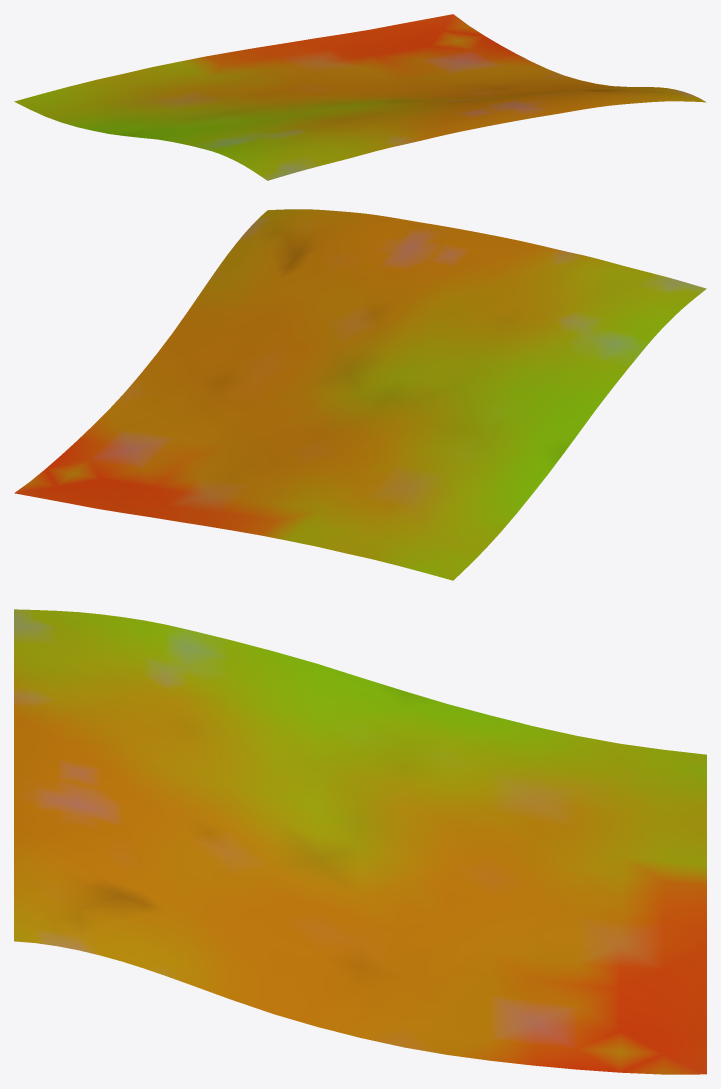
The model's file is SM_BM_BT_Terrain_1_6.glb.
The picture shows the model from 3 angles, top to bottom: view 1: azimuth 30°, elevation 25°; view 2: azimuth 150°, elevation 25°; view 3: azimuth 270°, elevation 25°; orthographic projection. The views are drawn at different scales.
Parts seen in each view (by area): view 1: SM_BM_BT_Terrain_1_6; view 2: SM_BM_BT_Terrain_1_6; view 3: SM_BM_BT_Terrain_1_6.
Boxes of the visible parts, bbox=[...] form: SM_BM_BT_Terrain_1_6: bbox=[14, 14, 706, 180]; SM_BM_BT_Terrain_1_6: bbox=[14, 209, 706, 580]; SM_BM_BT_Terrain_1_6: bbox=[14, 609, 706, 1074].
Bounding box in the file's own units: 256 × 72.09 × 256.
